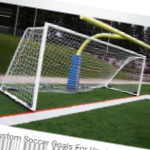goals: (1, 22, 147, 112)
